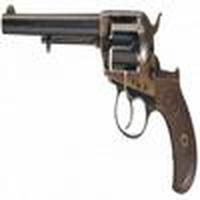gun: (3, 5, 197, 196)
